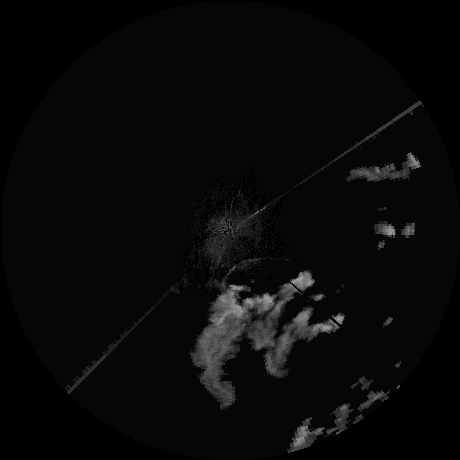frontgust: (224, 258, 260, 285)
